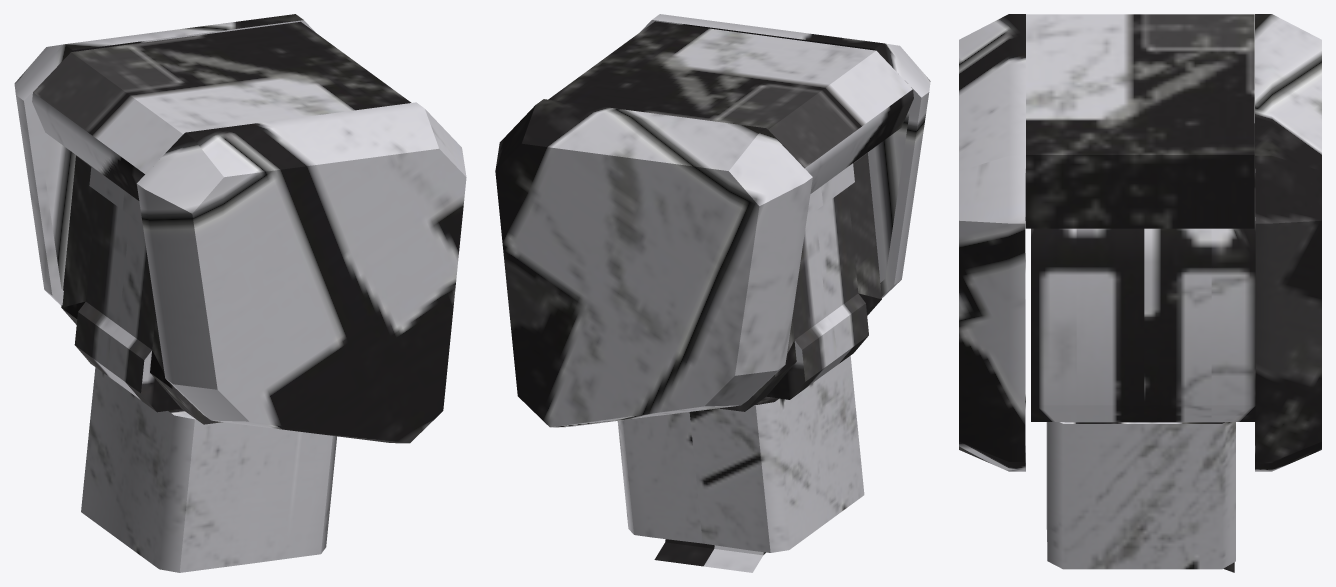
The model's file is upper.obj.
The picture shows the model from 3 angles, left to right: view 1: azimuth 30°, elevation 25°; view 2: azimuth 150°, elevation 25°; view 3: azimuth 270°, elevation 25°; orthographic projection. The views are drawn at different scales.
Visible parts, largest first — view 1: hand1:polySurface666; view 2: hand1:polySurface666; view 3: hand1:polySurface666.
Part boxes in pixels (x1,y1,x2,y2): hand1:polySurface666: (14,14,466,572); hand1:polySurface666: (495,14,930,572); hand1:polySurface666: (959,14,1321,572).
Size of the model in its own units: 2.81 by 4.12 by 2.73.
1 material, 1 textured.
